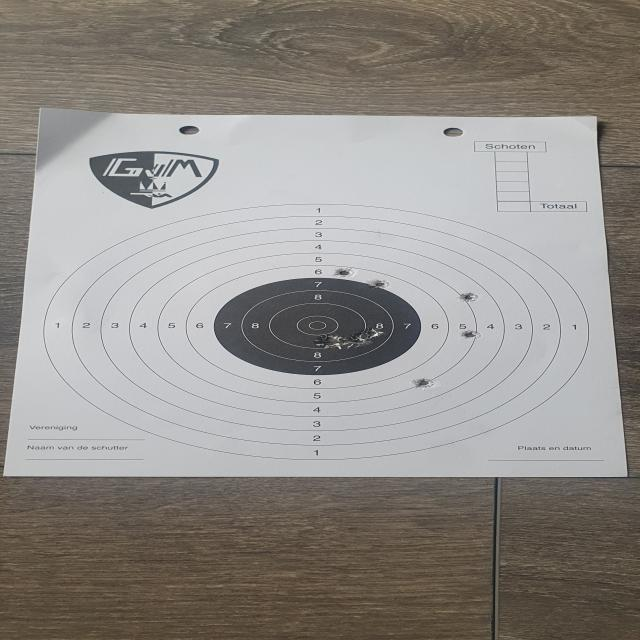10: (314, 333, 349, 350)
5: (410, 377, 443, 391), (456, 292, 482, 303), (459, 330, 483, 340)
6: (331, 266, 359, 280)
7: (366, 278, 394, 290)
9: (344, 333, 373, 348), (360, 326, 384, 341)
Target: (39, 202, 591, 462)
black_contour: (215, 278, 422, 375)
